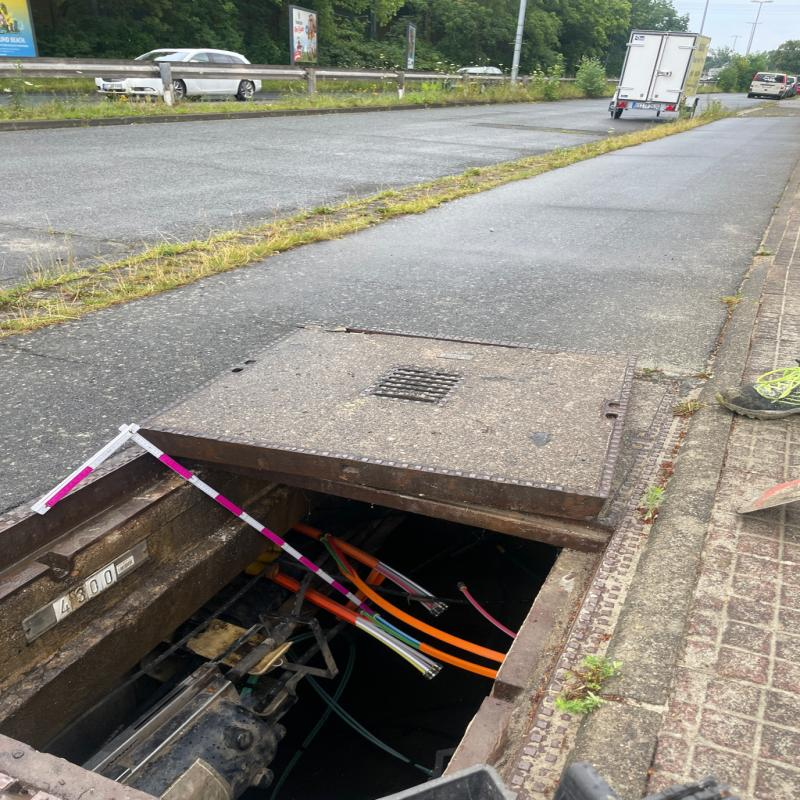Orang-Speednetrohrchen: (290, 520, 506, 661), (272, 571, 444, 681), (354, 605, 499, 679)
